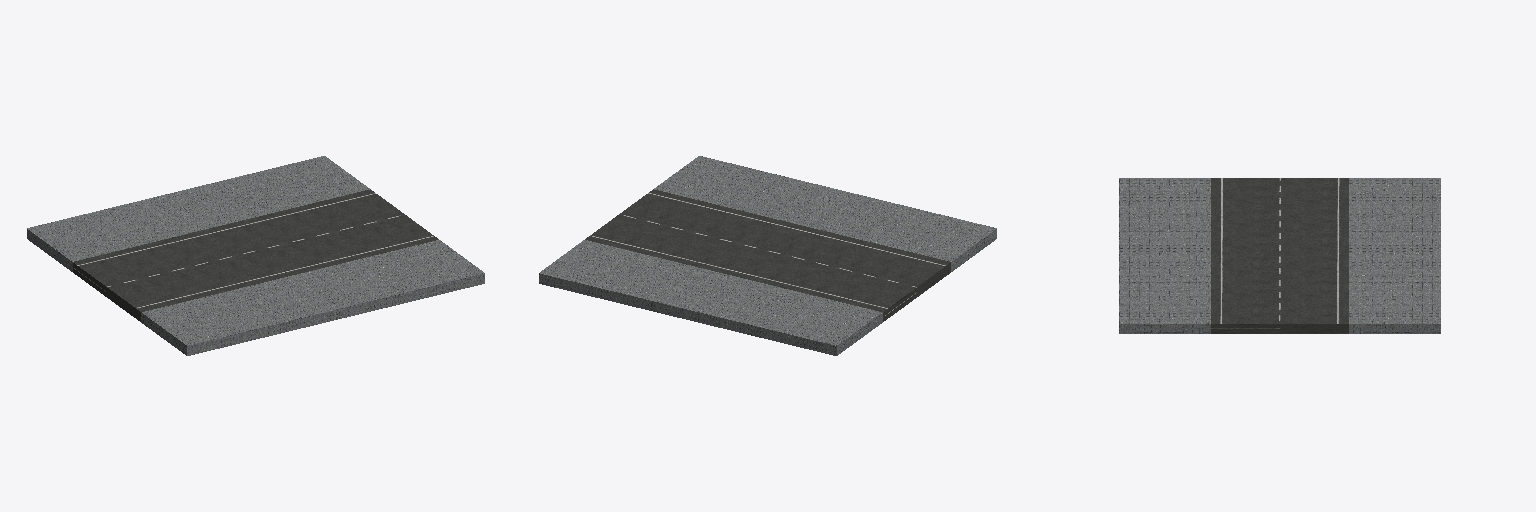
3 views of the same model, side by side, from view 1: azimuth 30°, elevation 25°; view 2: azimuth 150°, elevation 25°; view 3: azimuth 270°, elevation 25° (orthographic).
Parts seen in each view (by area): view 1: Road, Side-Left, Side-Right; view 2: Road, Side-Right, Side-Left; view 3: Road, Side-Left, Side-Right.
Boxes of the visible parts, x1=… form: Road: x1=73, y1=189, x2=438, y2=321; Side-Left: x1=141, y1=240, x2=484, y2=355; Side-Right: x1=27, y1=156, x2=369, y2=271; Road: x1=585, y1=189, x2=950, y2=321; Side-Right: x1=539, y1=240, x2=882, y2=355; Side-Left: x1=654, y1=156, x2=996, y2=271; Road: x1=1211, y1=178, x2=1348, y2=333; Side-Left: x1=1119, y1=178, x2=1210, y2=333; Side-Right: x1=1349, y1=178, x2=1440, y2=333.
Bounding box in the file's own units: 15 × 0.5 × 14.
2 materials, 2 textured.